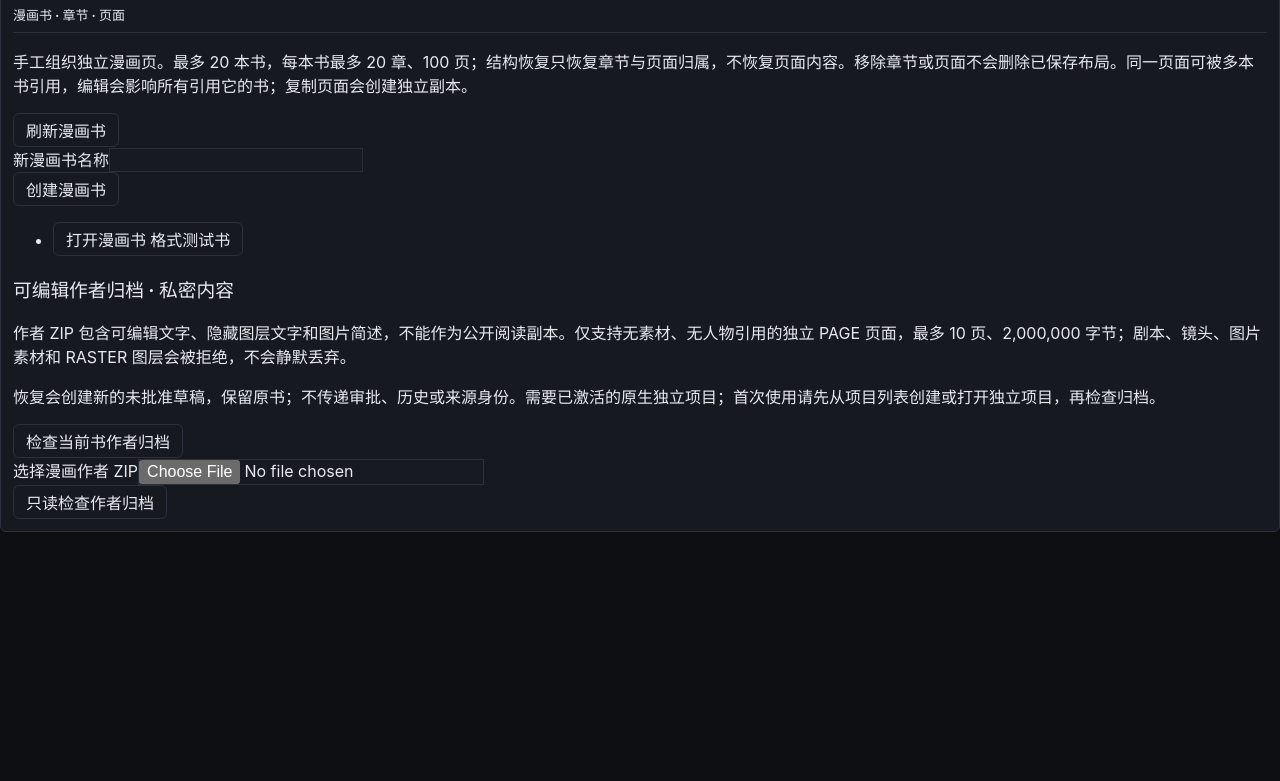
Test: fails closed on archive preflight format
Click the button "打开漫画书 格式测试书": [148, 239] box [53,222,243,256]
(page scrolled)
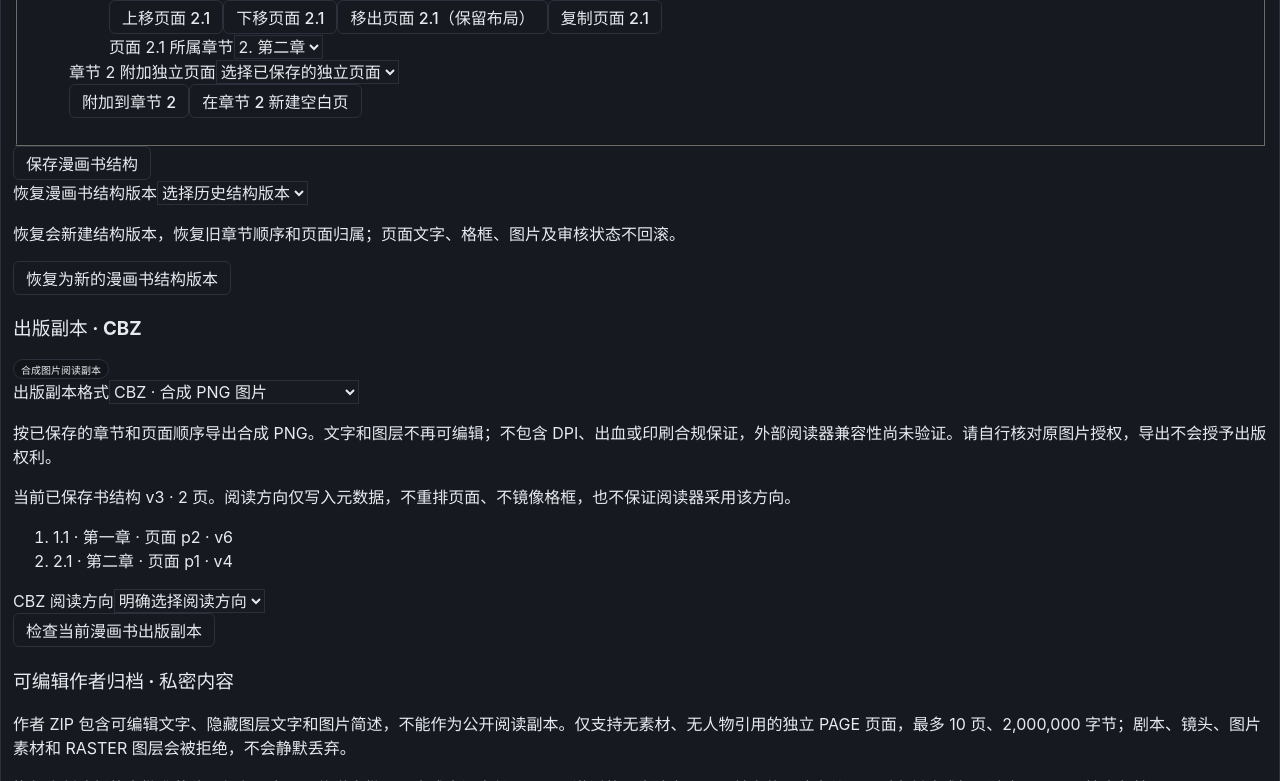
Check: the element named "漫画书 CBZ 导出" is shown, box [13,313,1267,647]
Select "JPEG 页面 · ZIP 阅读副本" in the dropdown labelled "出版副本格式": [234, 392] box [109,380,359,404]
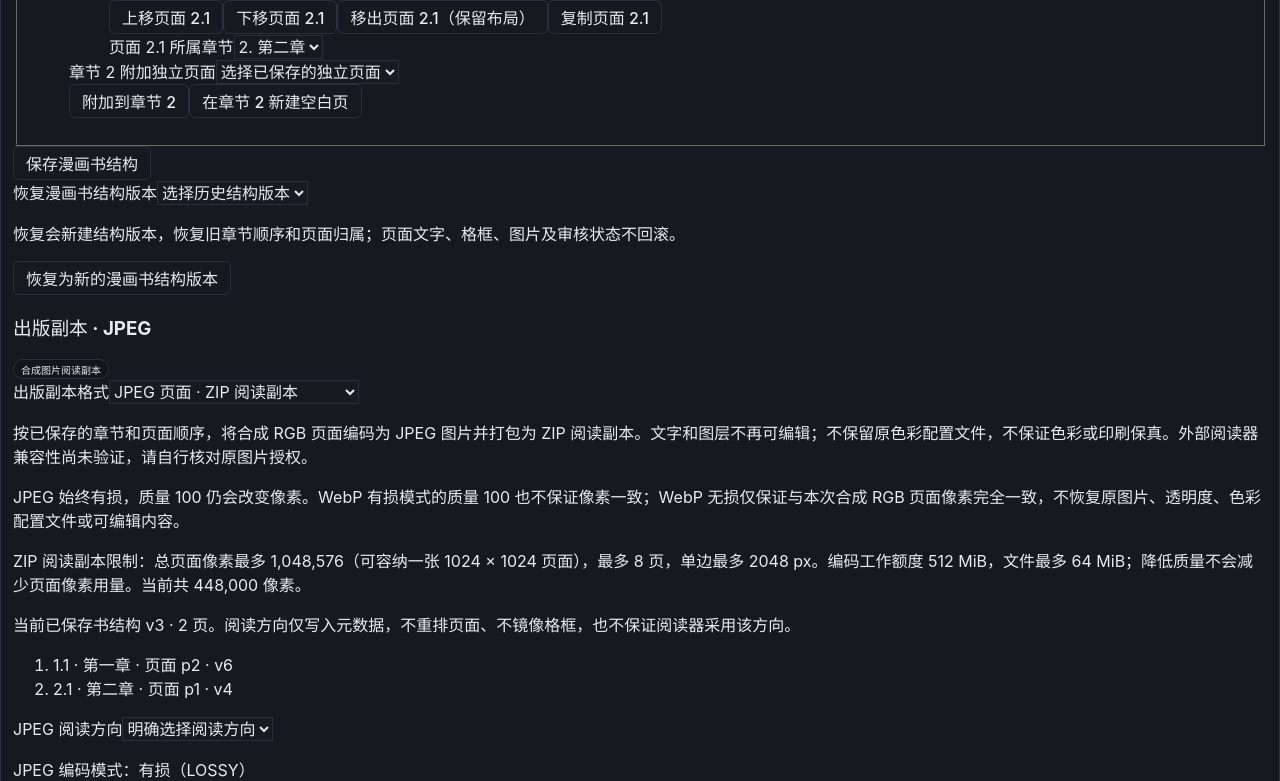
Select "从右到左（RTL）" in the dropdown labelled "JPEG 阅读方向": [198, 729] box [122,717,273,741]
(page scrolled)
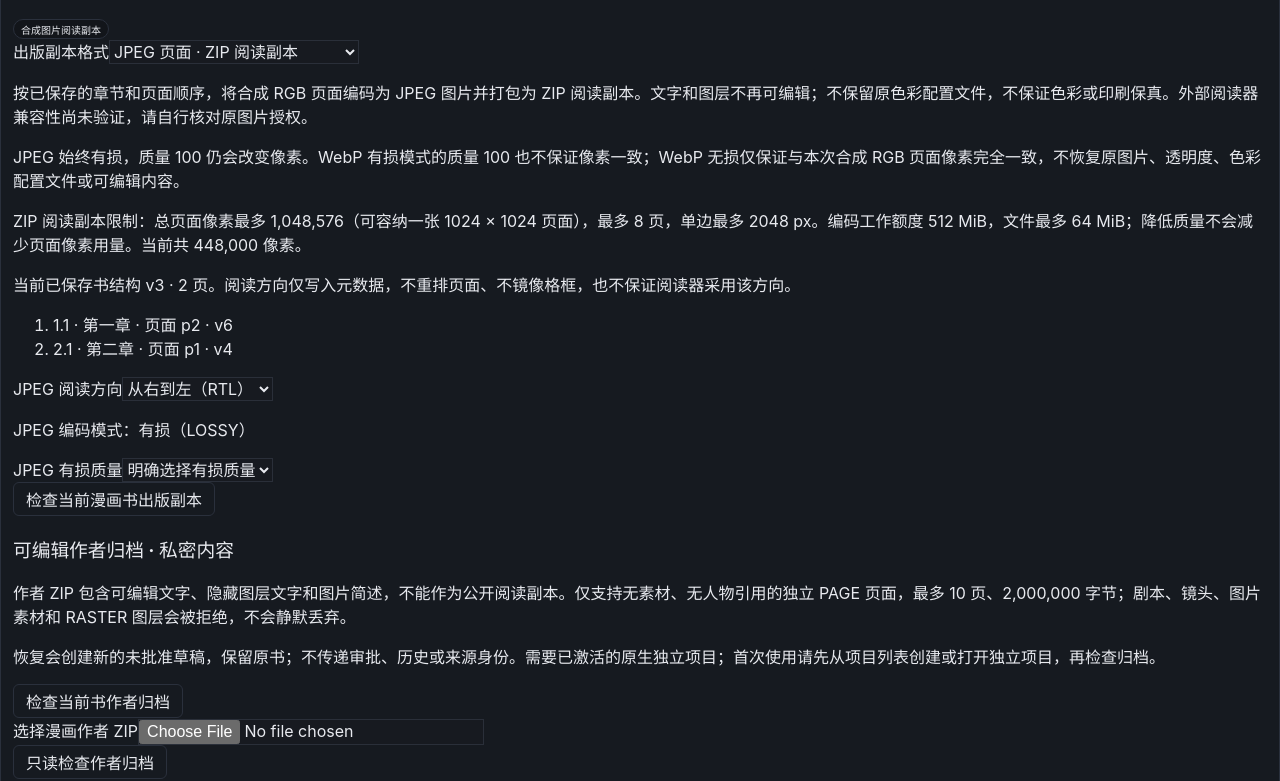
Select "100 · 仍然有损" in the dropdown labelled "JPEG 有损质量": [198, 470] box [122,458,273,482]
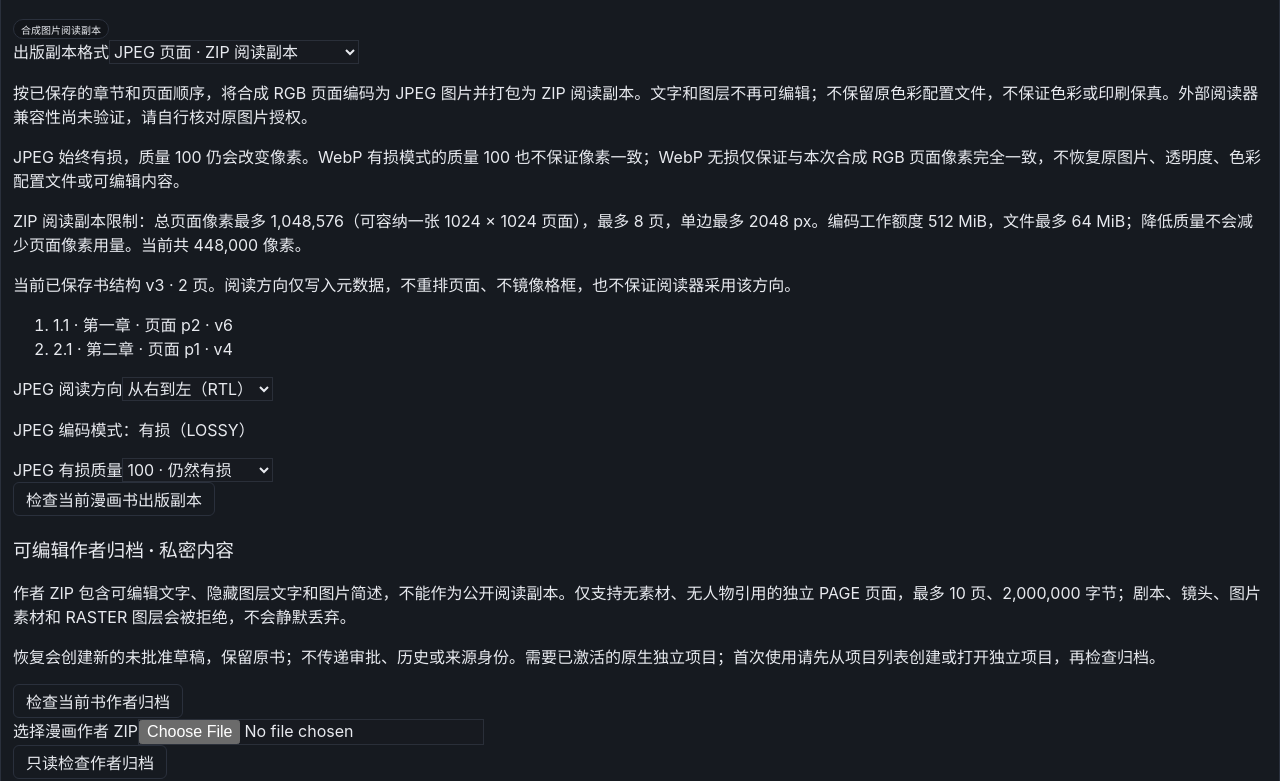
Click the button "检查当前漫画书出版副本": [114, 499] box [13,482,215,516]
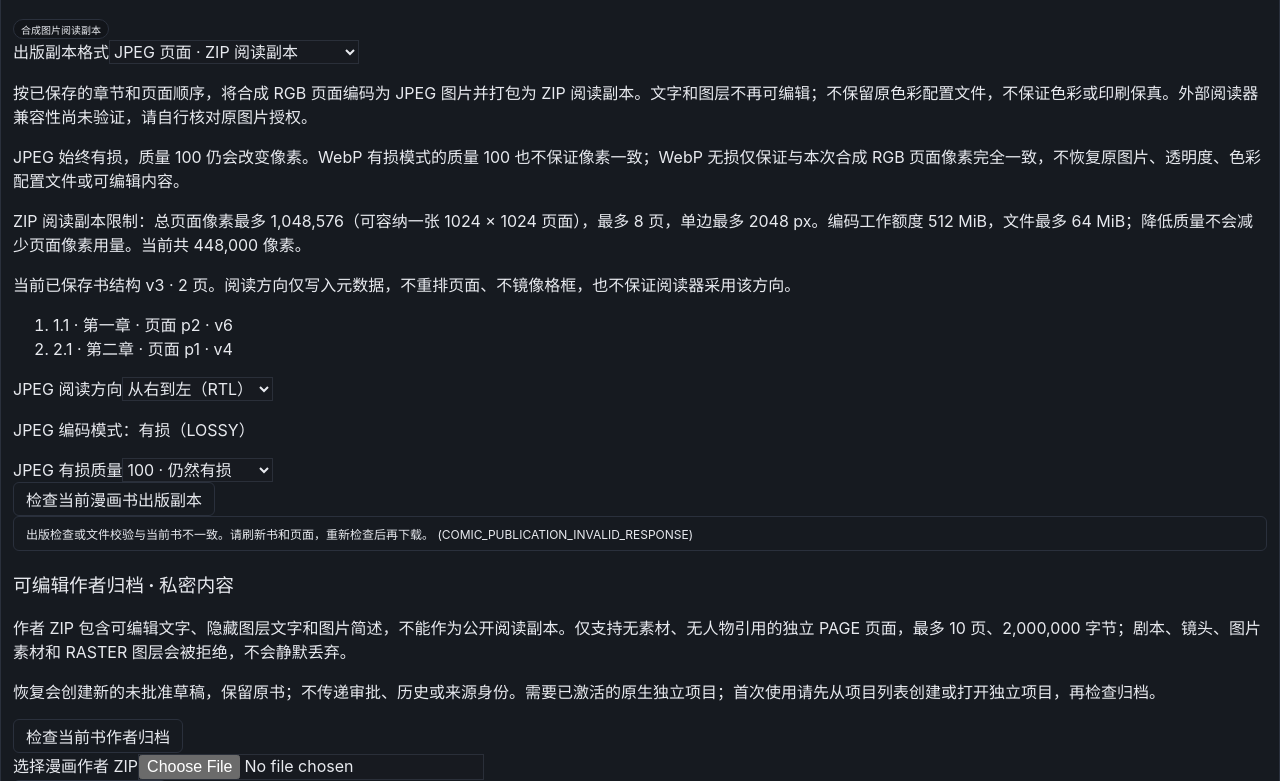
Check: the text "出版检查或文件校验与当前书不一致。请刷新书和页面，重新检查后再下载。 (COMIC_PUBLICATION_INVALID_RESPONSE)" is shown, box [13,516,1267,551]
